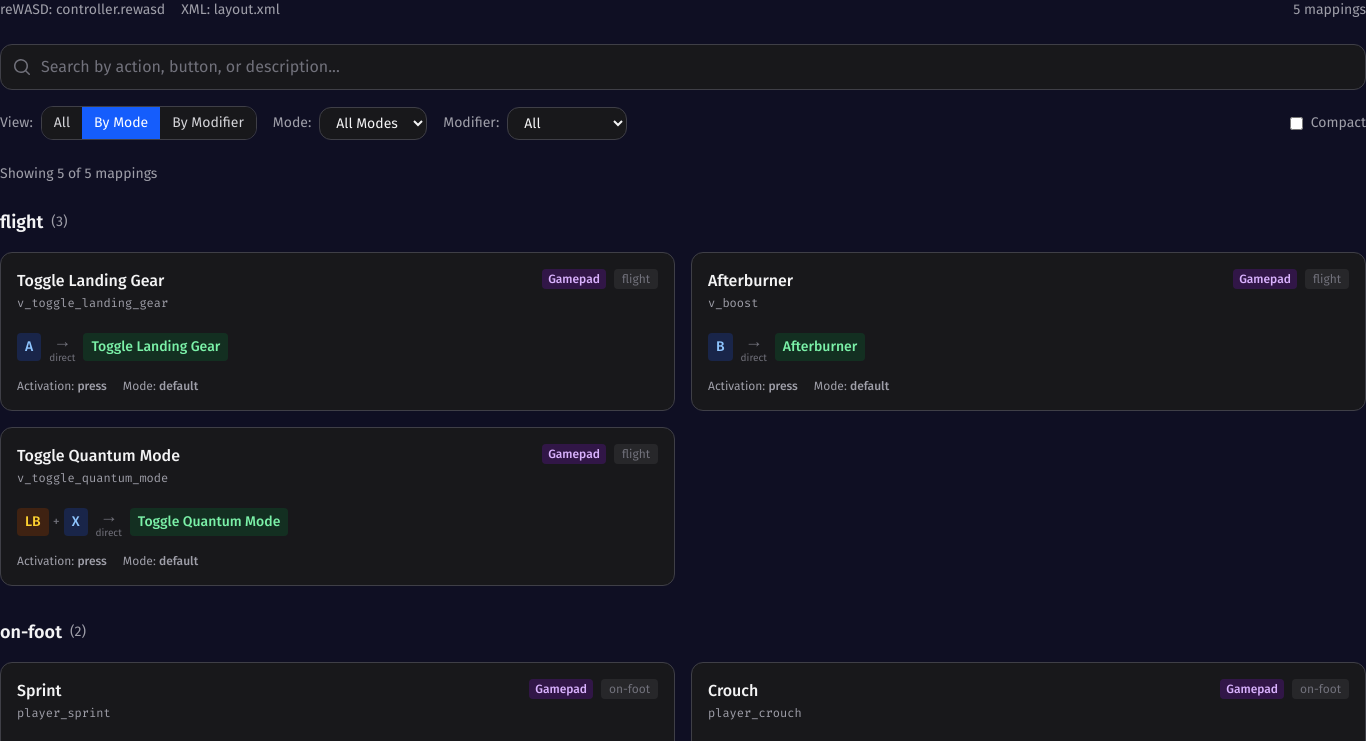
Test: MappingBrowser › search › filters mappings when searching
The image size is (1366, 741).
In the field with placeholder "Search by action, button, or description...": (683, 67) x1=0 y1=44 x2=1365 y2=90, type "landing"
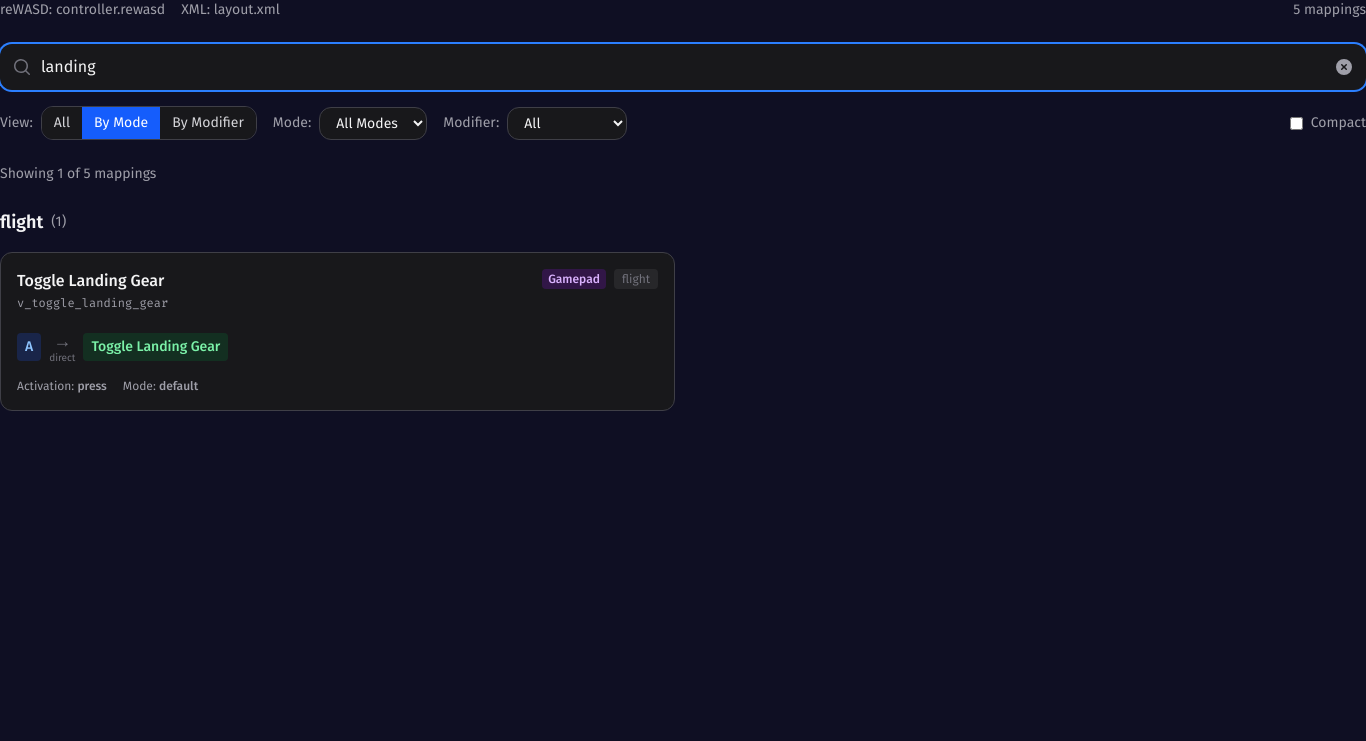
Result: the text "Showing 1 of 5 mappings" is shown at x1=0 y1=165 x2=156 y2=182
